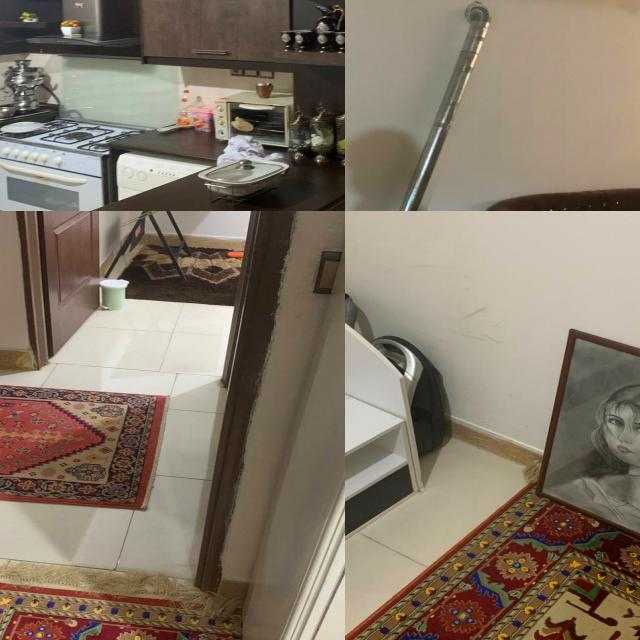Floor: (0, 299, 233, 580), (345, 422, 538, 640)
Wall: (345, 211, 640, 454), (222, 211, 345, 557), (169, 211, 251, 240)
